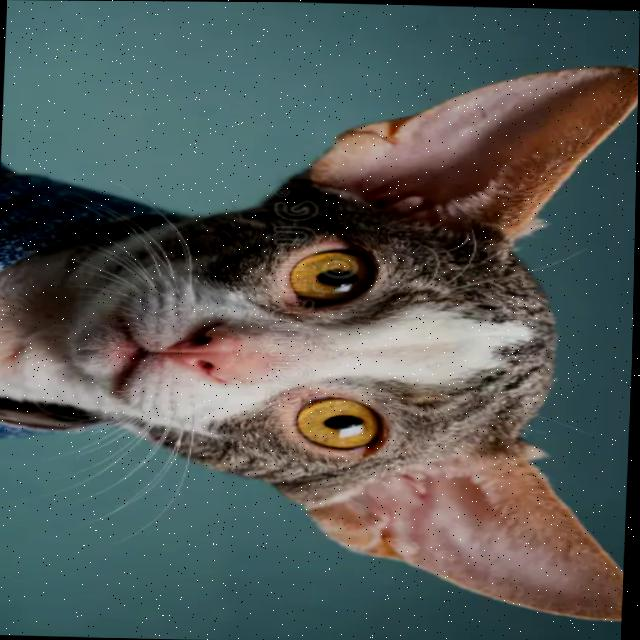Cornish Rex: (0, 45, 639, 624)
